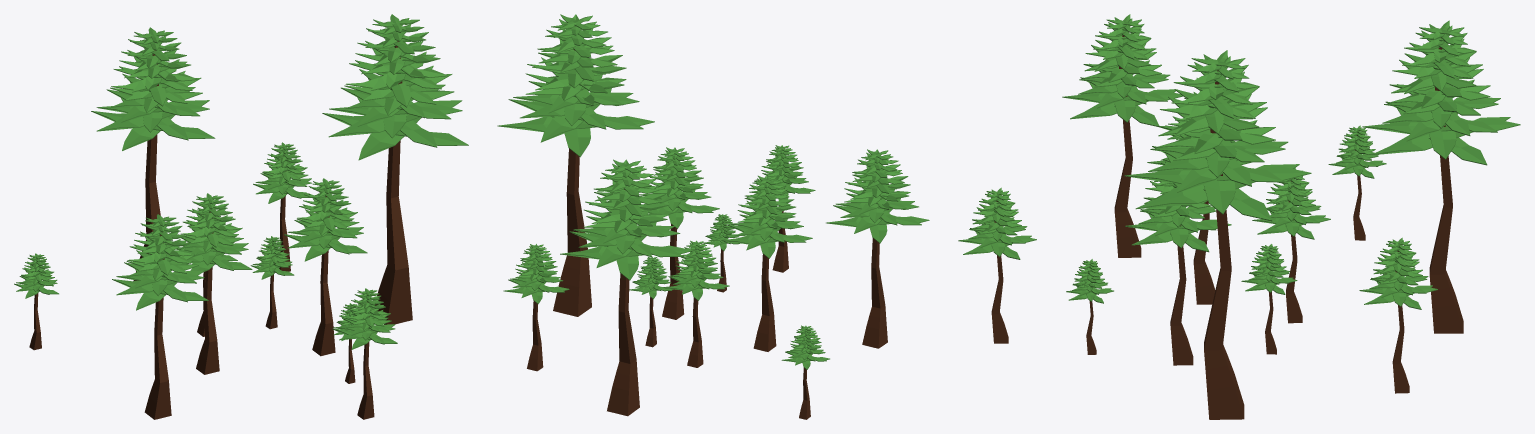
File: TreeFix02.fbx
The picture shows the model from 3 angles, left to right: view 1: azimuth 30°, elevation 25°; view 2: azimuth 150°, elevation 25°; view 3: azimuth 270°, elevation 25°; orthographic projection. The views are drawn at different scales.
Visible parts, largest first — view 1: Leaves008, Leaves006, Leaves009, Tree009, Leaves003, Leaves011, Leaves002, Leaves007, Tree010, Tree002, Tree004, Leaves005 (+4 smaller); view 2: Leaves008, Leaves006, Leaves009, Leaves011, Tree009, Leaves003, Tree007, Leaves007, Leaves001, Tree010, Leaves002, Tree002 (+7 smaller); view 3: Leaves008, Leaves006, Leaves009, Tree009, Tree007, Leaves003, Leaves002, Leaves007, Leaves001, Tree010, Leaves005, Tree004 (+6 smaller).
Boxes of the visible parts, x1,y1,x2,y2 form: Leaves008: (322, 14, 468, 160); Leaves006: (91, 27, 215, 150); Leaves009: (112, 214, 208, 310); Tree009: (375, 41, 412, 324); Leaves003: (284, 178, 367, 261); Leaves011: (176, 193, 252, 271); Leaves002: (336, 288, 397, 349); Leaves007: (253, 142, 311, 203); Tree010: (144, 235, 171, 419); Tree002: (196, 212, 219, 374); Tree004: (312, 196, 335, 356); Leaves005: (14, 253, 58, 298); Leaves008: (497, 14, 654, 157); Leaves006: (560, 159, 693, 280); Leaves009: (826, 149, 929, 243); Leaves011: (721, 175, 812, 258); Tree009: (553, 49, 591, 316); Leaves003: (638, 147, 719, 228); Tree007: (607, 189, 639, 416); Leaves007: (503, 244, 569, 304); Leaves001: (663, 240, 729, 300); Tree010: (862, 238, 887, 348); Leaves002: (749, 145, 815, 200); Tree002: (753, 254, 776, 351); Leaves008: (1124, 50, 1311, 221); Leaves006: (1362, 20, 1520, 165); Leaves009: (1062, 14, 1183, 126); Tree009: (1204, 70, 1244, 419); Tree007: (1429, 38, 1463, 333); Leaves003: (1125, 159, 1231, 252); Leaves002: (958, 187, 1036, 259); Leaves007: (1359, 237, 1437, 309); Leaves001: (1252, 168, 1330, 239); Tree010: (1114, 35, 1141, 257); Leaves005: (1328, 125, 1386, 178); Tree004: (1170, 225, 1193, 365).
Bounding box in the file's own units: 2925 × 2141 × 3104.
